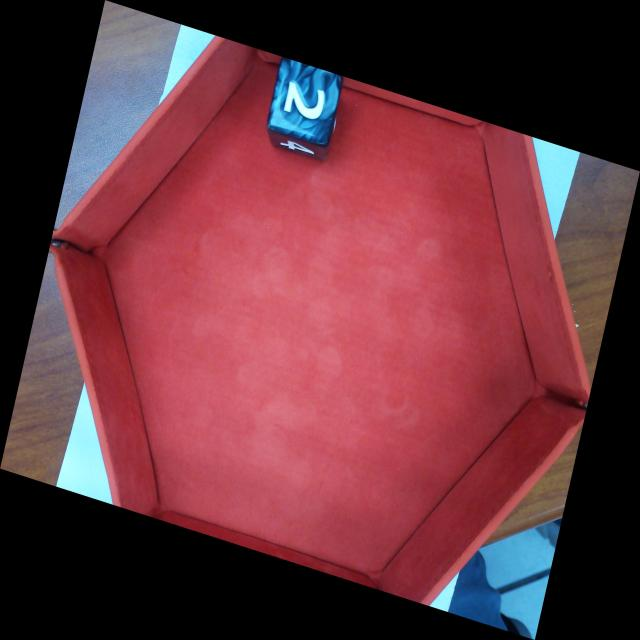dice: (267, 56, 345, 144)
